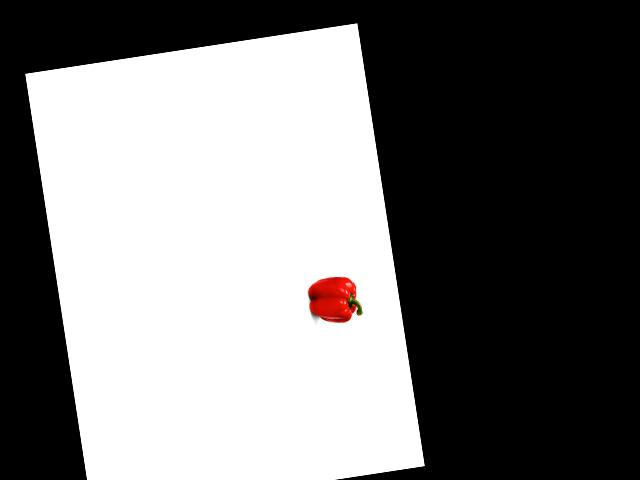bell_pepper: (304, 272, 364, 327)
